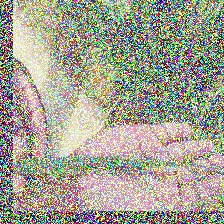Leaf_Blast: (61, 152, 224, 186)
